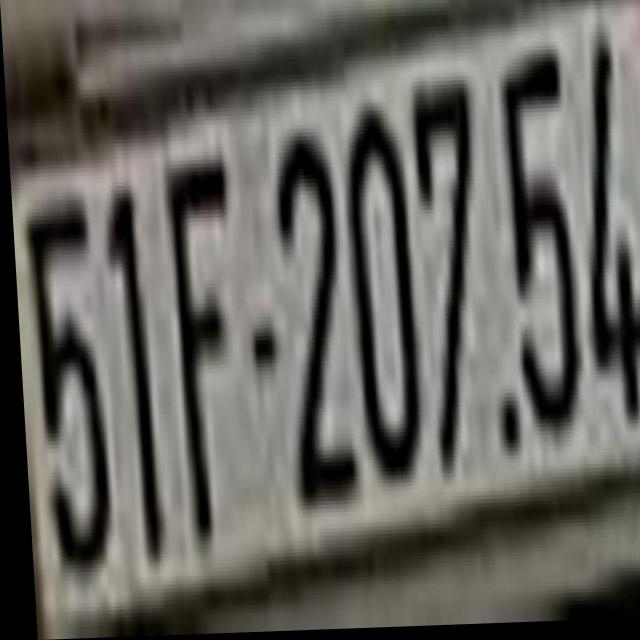0: (340, 100, 419, 502)
1: (96, 147, 158, 583)
2: (265, 138, 355, 520)
4: (574, 12, 640, 437)
5: (18, 176, 112, 613), (496, 34, 580, 444)
7: (405, 68, 484, 504)
F: (152, 149, 241, 566)
